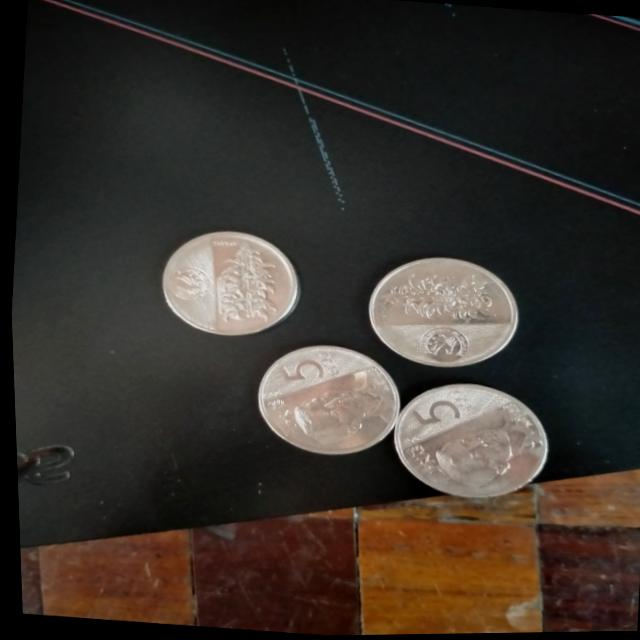5_New_Back: (376, 258, 505, 336), (197, 239, 283, 330)
5_New_Front: (391, 381, 473, 437), (259, 339, 343, 393)
